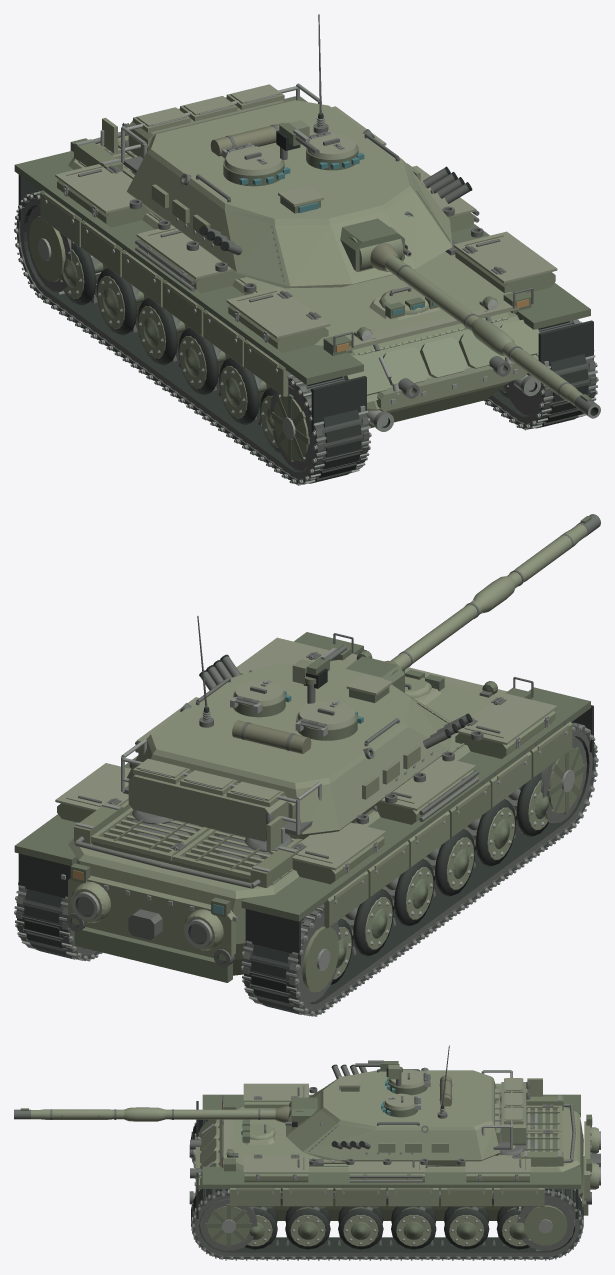
Rendered from spheres-tank-balanced.glb.
3 renders of one model, top to bottom at view 1: azimuth 30°, elevation 25°; view 2: azimuth 150°, elevation 25°; view 3: azimuth 270°, elevation 25°, orthographic. The views are drawn at different scales.
Visible parts, largest first — view 1: Spheres balanced tank; view 2: Spheres balanced tank; view 3: Spheres balanced tank.
Part boxes in pixels (x1,y1,x2,y2): Spheres balanced tank: (14,14,600,485); Spheres balanced tank: (14,514,600,1016); Spheres balanced tank: (14,1045,600,1260).
Bounding box in the file's own units: 3.83 × 3.69 × 10.3.
